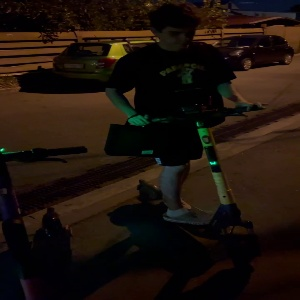human on a scooter: (98, 2, 271, 274)
